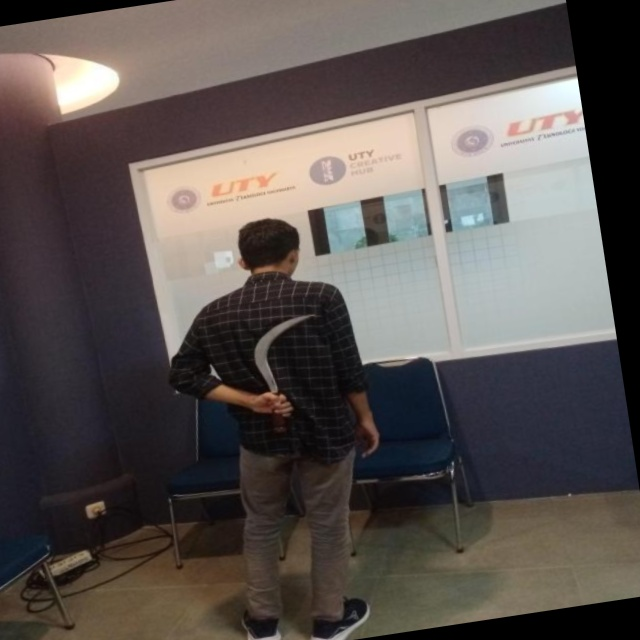Sharp-Object: (231, 311, 330, 428)
